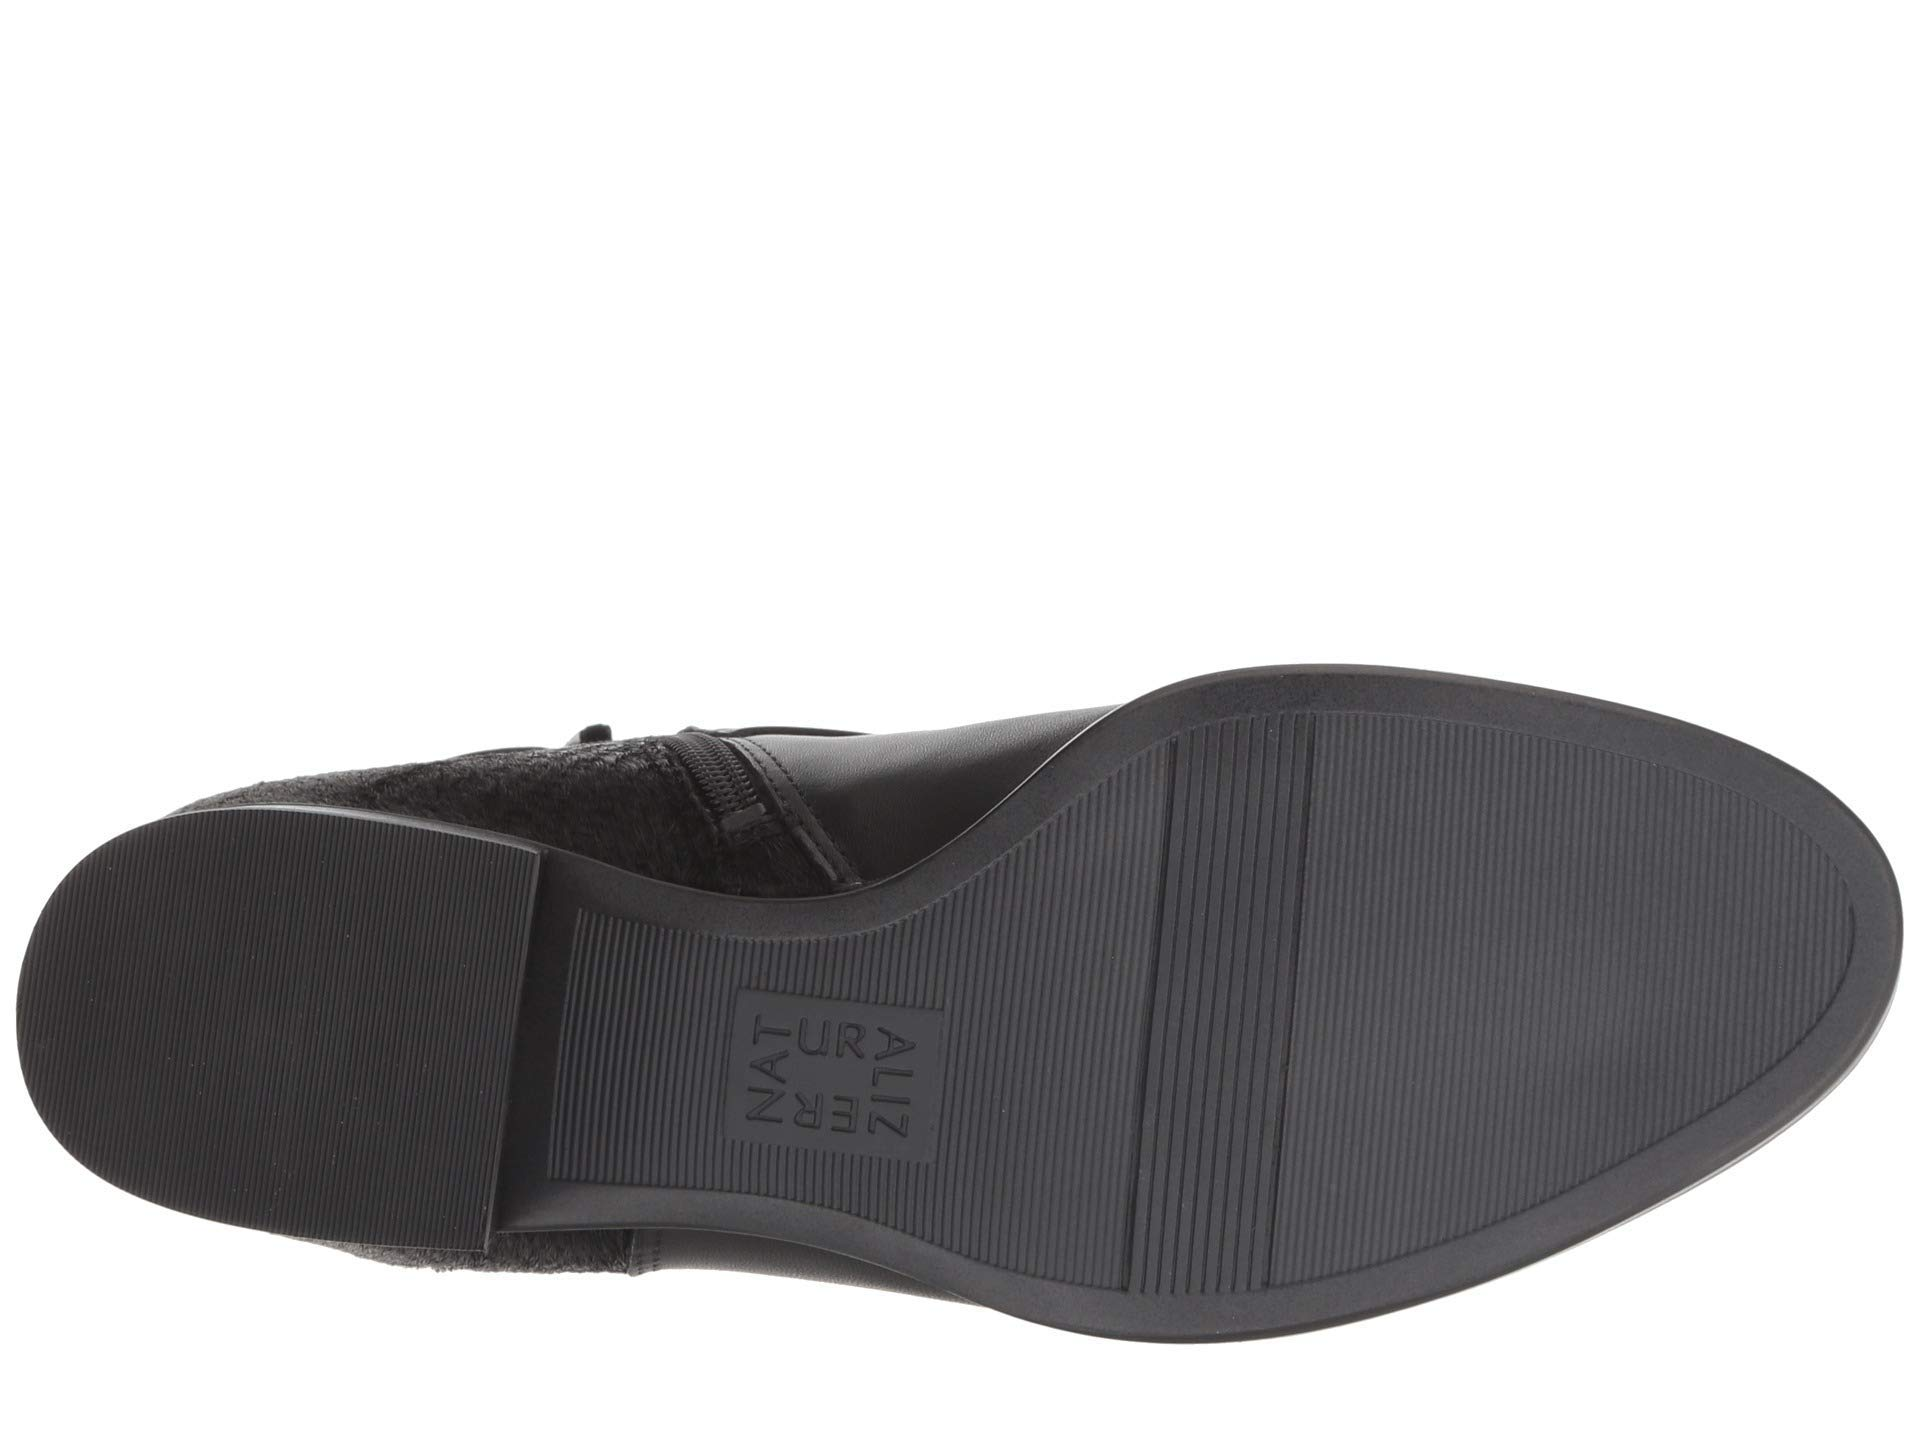exclude: (488, 762, 1055, 1307)
line: (103, 874, 478, 1204), (1389, 737, 1628, 1106)
quad: (1119, 691, 1314, 1314)
